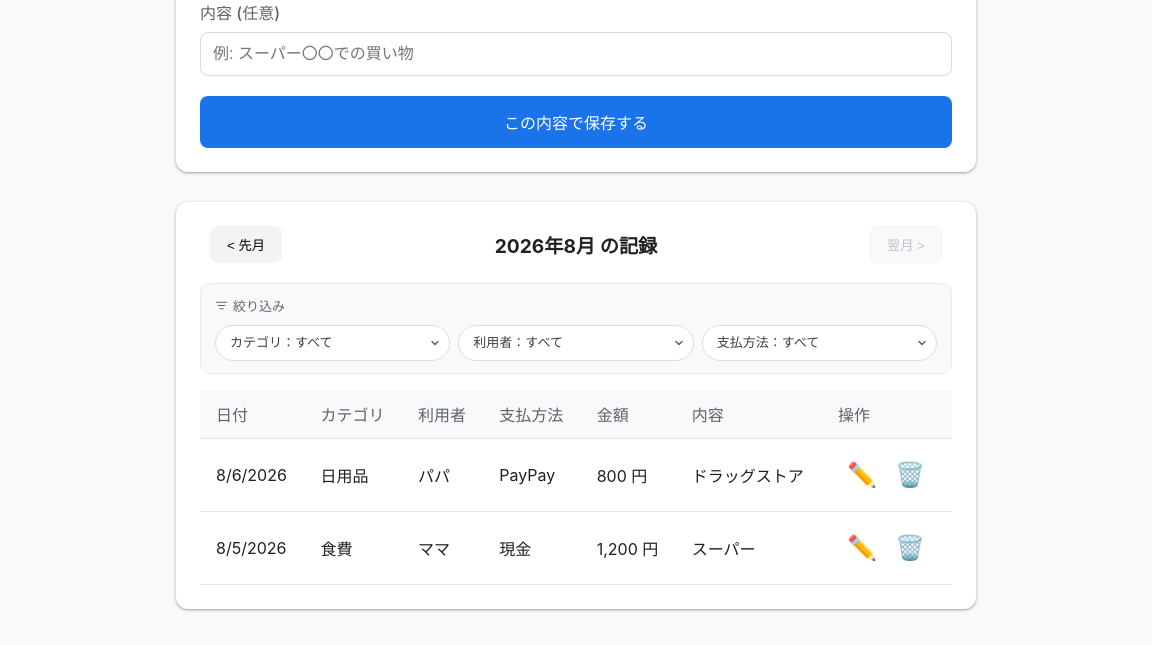
Test: 絞り込むと該当する記録だけが残り、件数と合計が出る
(page scrolled)
Expected: the text "スーパー" is shown, [676,511,822,584]
Click the button "カテゴリ：すべて": (333, 343) [215,325,450,361]
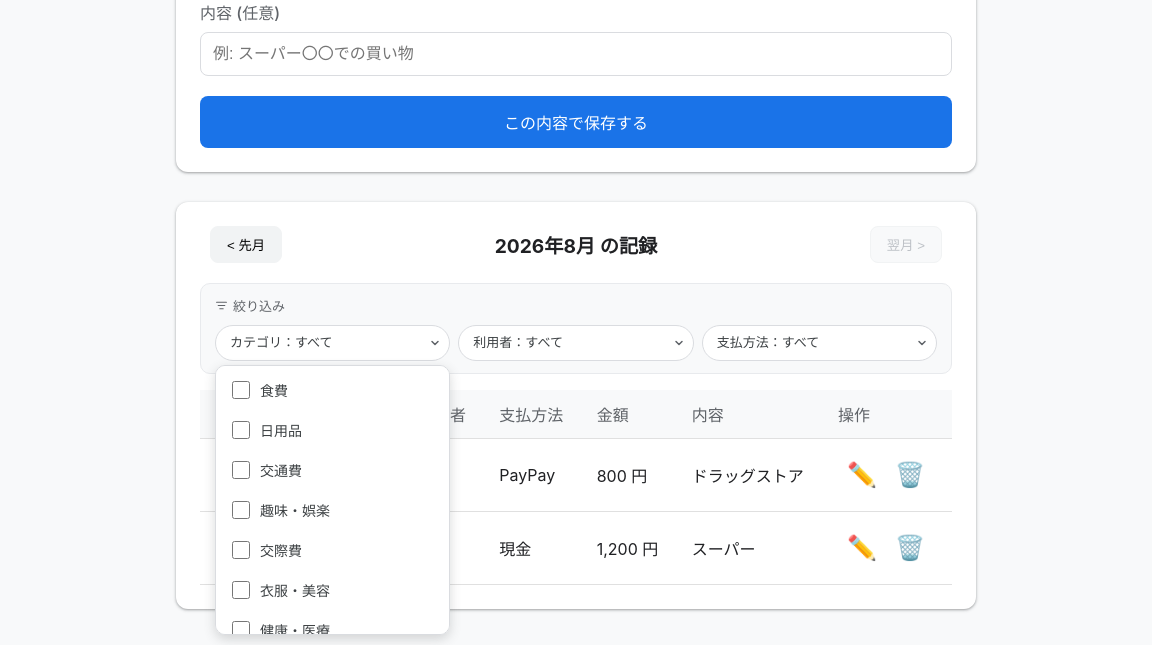
Click the checkbox labelled "食費": (241, 390) [232,381,250,399]
(page scrolled)
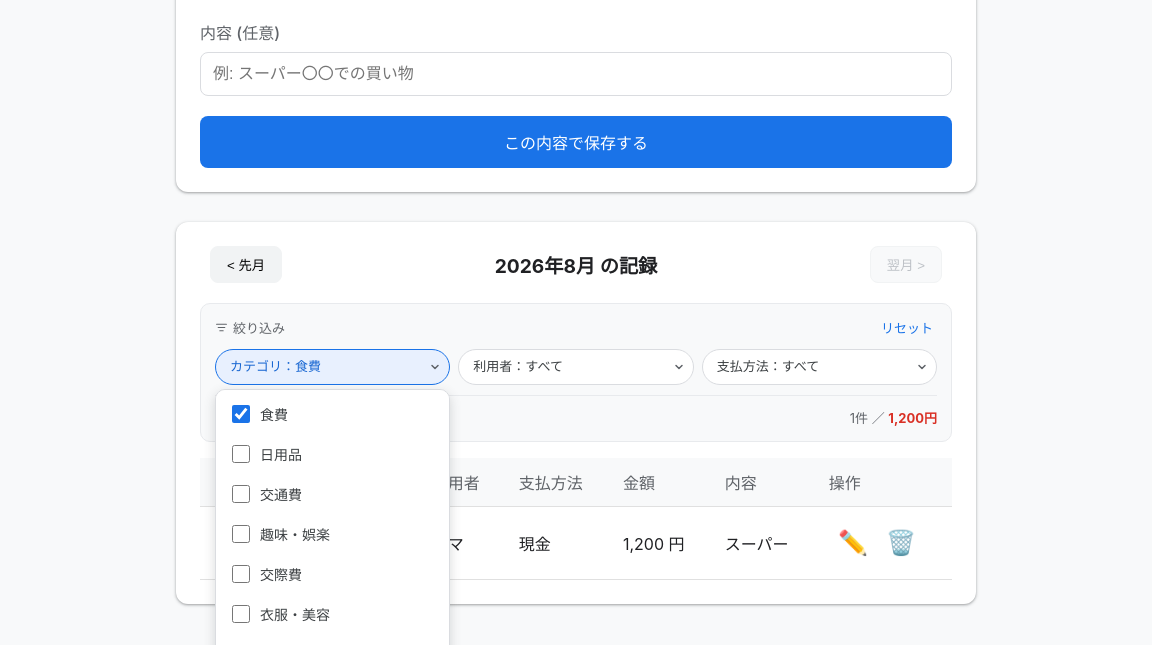
Expected: the text "ドラッグストア" is gone
Expected: the element with class "filter-result-summary" shows "1件", [850,408,937,427]
Expected: the element with class "filter-result-summary" shows "1,200円", [850,408,937,427]
